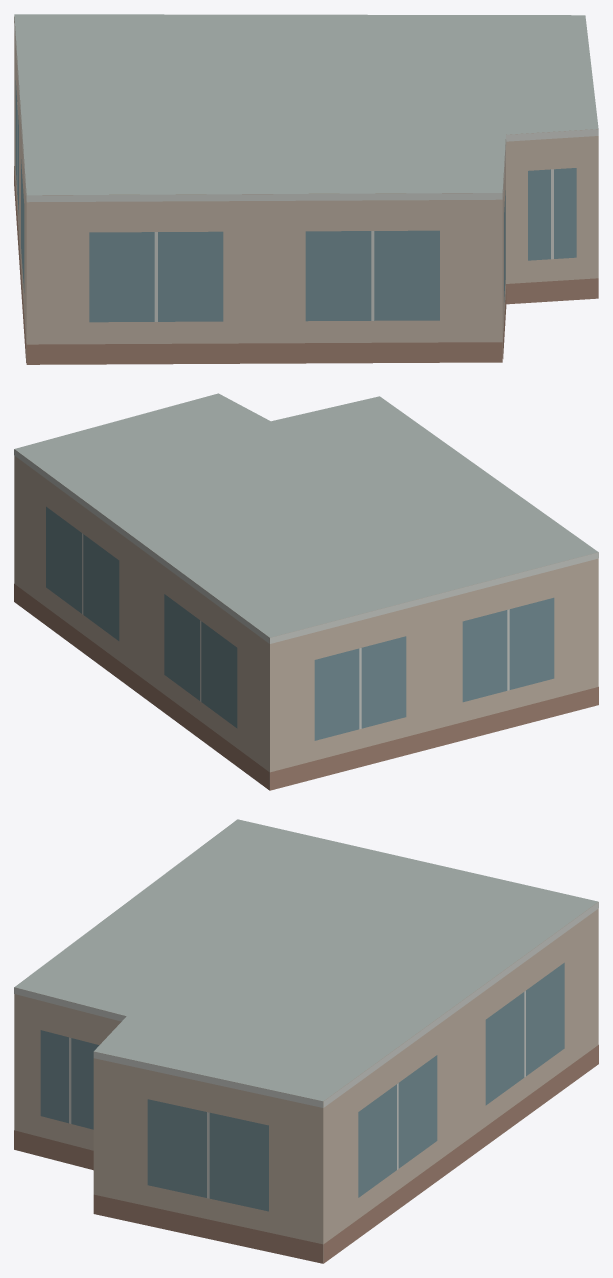
The model's file is survey-upis-33018294.glb.
The picture shows the model from 3 angles, top to bottom: view 1: azimuth 30°, elevation 25°; view 2: azimuth 150°, elevation 25°; view 3: azimuth 270°, elevation 25°; orthographic projection. The views are drawn at different scales.
Visible parts, largest first — view 1: survey-upis-33018294.tmp; view 2: survey-upis-33018294.tmp; view 3: survey-upis-33018294.tmp.
Part boxes in pixels (<box>): survey-upis-33018294.tmp: <box>14,14,598,364</box>; survey-upis-33018294.tmp: <box>14,393,598,790</box>; survey-upis-33018294.tmp: <box>14,819,598,1263</box>.
Bounding box in the file's own units: 11.38 × 3.05 × 9.96.
